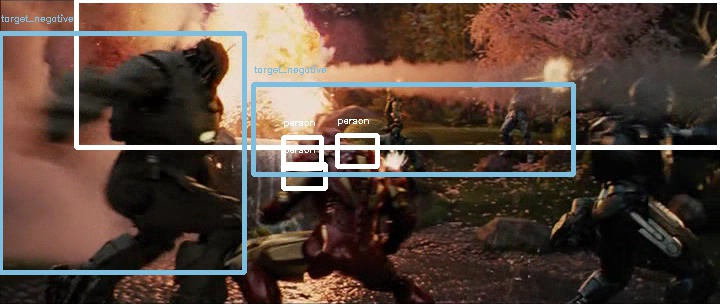person: (311, 130, 353, 167), (310, 130, 352, 167), (312, 130, 354, 167), (311, 129, 353, 166), (311, 131, 353, 168)
target_negative: (142, 125, 381, 293), (14, 51, 451, 118), (103, 235, 313, 295), (193, 240, 356, 290), (97, 254, 300, 263), (689, 162, 704, 211)
